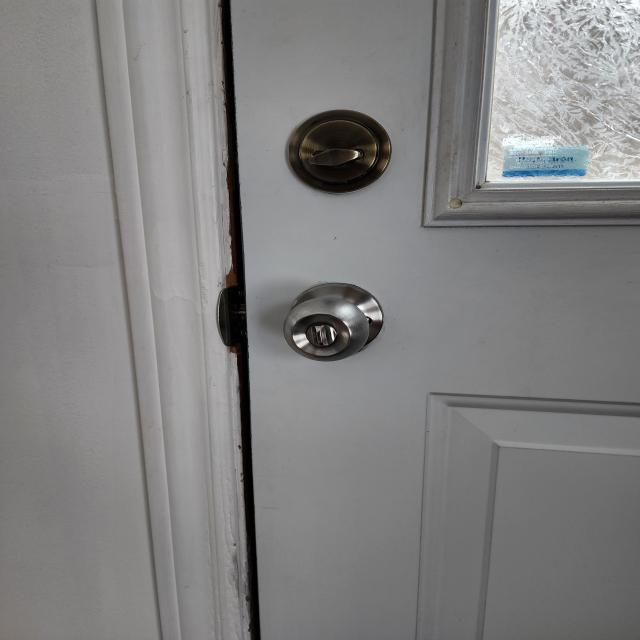door-knob: (282, 283, 385, 364)
